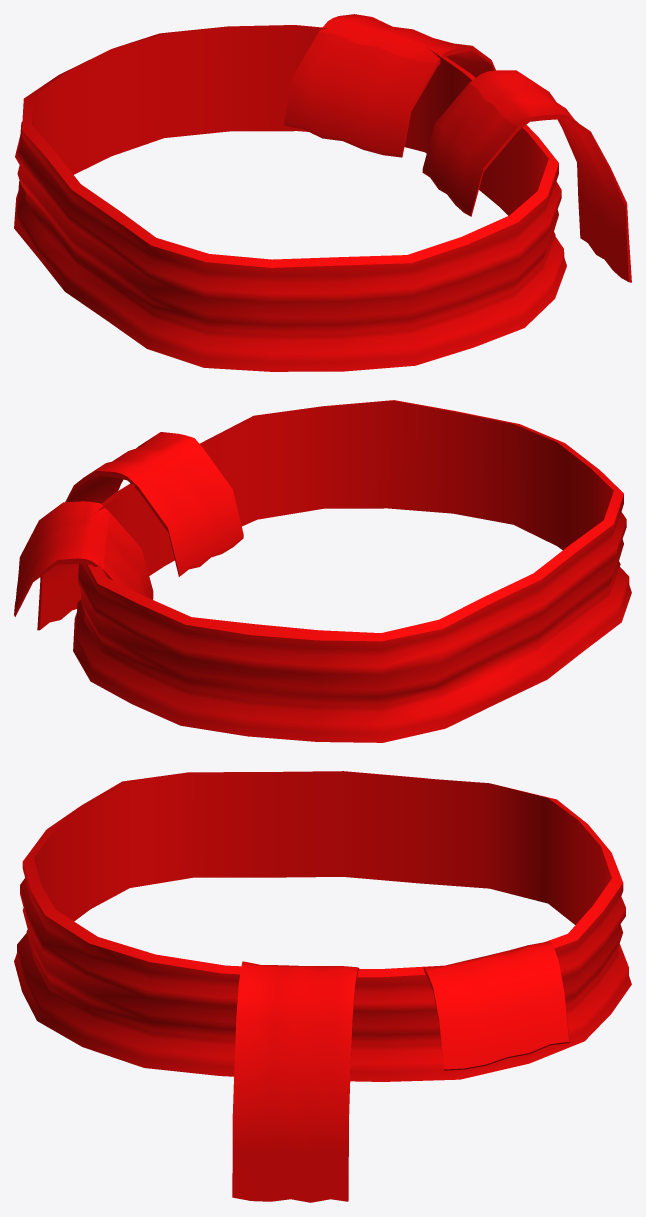
File: Bandana.fbx
3 renders of one model, top to bottom at view 1: azimuth 30°, elevation 25°; view 2: azimuth 150°, elevation 25°; view 3: azimuth 270°, elevation 25°, orthographic. The views are drawn at different scales.
Visible parts, largest first — view 1: Cylinder002; view 2: Cylinder002; view 3: Cylinder002.
Part boxes in pixels (x1,y1,x2,y2): Cylinder002: (14, 14, 631, 371); Cylinder002: (14, 400, 631, 742); Cylinder002: (14, 771, 631, 1202).
Bounding box in the file's own units: 35.77 × 12.52 × 36.42.
